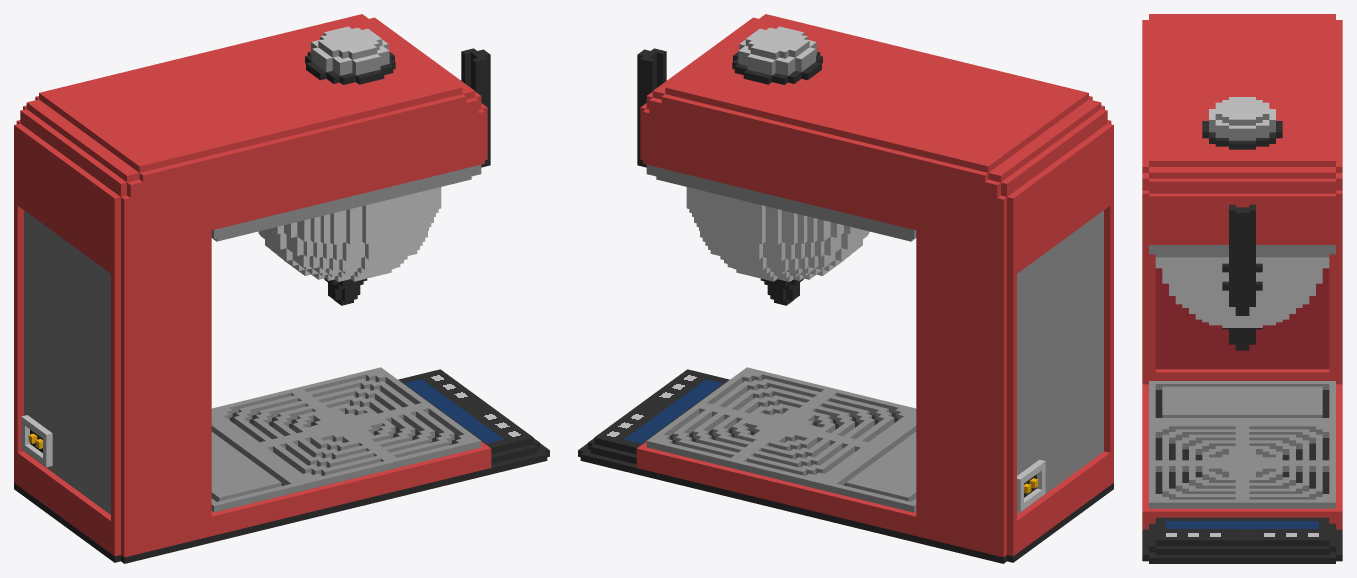
Rendered from CoffeeDripMachine.fbx.
3 views of the same model, side by side, from view 1: azimuth 30°, elevation 25°; view 2: azimuth 150°, elevation 25°; view 3: azimuth 270°, elevation 25° (orthographic). The views are drawn at different scales.
Visible parts, largest first — view 1: CoffeeDripMachine, CoffeeDrip_Bowl, CoffeeDrip_Dial; view 2: CoffeeDripMachine, CoffeeDrip_Bowl, CoffeeDrip_Dial; view 3: CoffeeDripMachine, CoffeeDrip_Bowl, CoffeeDrip_Dial.
Part boxes in pixels (<box>): CoffeeDripMachine: <box>14,14,549,563</box>; CoffeeDrip_Bowl: <box>258,48,490,305</box>; CoffeeDrip_Dial: <box>305,26,395,84</box>; CoffeeDripMachine: <box>578,14,1113,563</box>; CoffeeDrip_Bowl: <box>637,48,869,305</box>; CoffeeDrip_Dial: <box>732,26,822,84</box>; CoffeeDripMachine: <box>1142,14,1342,563</box>; CoffeeDrip_Bowl: <box>1155,204,1329,350</box>; CoffeeDrip_Dial: <box>1202,97,1282,149</box>.
Bounding box in the file's own units: 7 × 6.4 × 3.
1 material, 1 textured.
